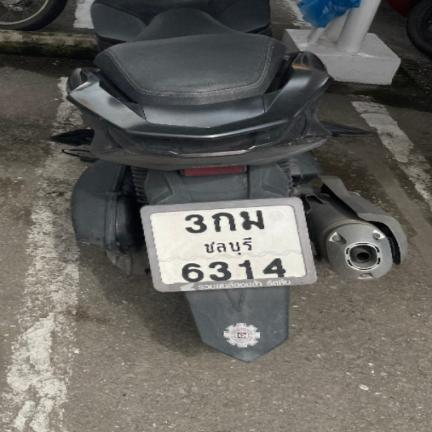1: (236, 259, 260, 280)
3: (181, 213, 209, 234), (207, 260, 233, 282)
4: (262, 257, 289, 278)
6: (181, 260, 206, 282)
A01: (210, 211, 238, 233)
A33: (239, 210, 269, 231)
CBI: (199, 235, 258, 258)
